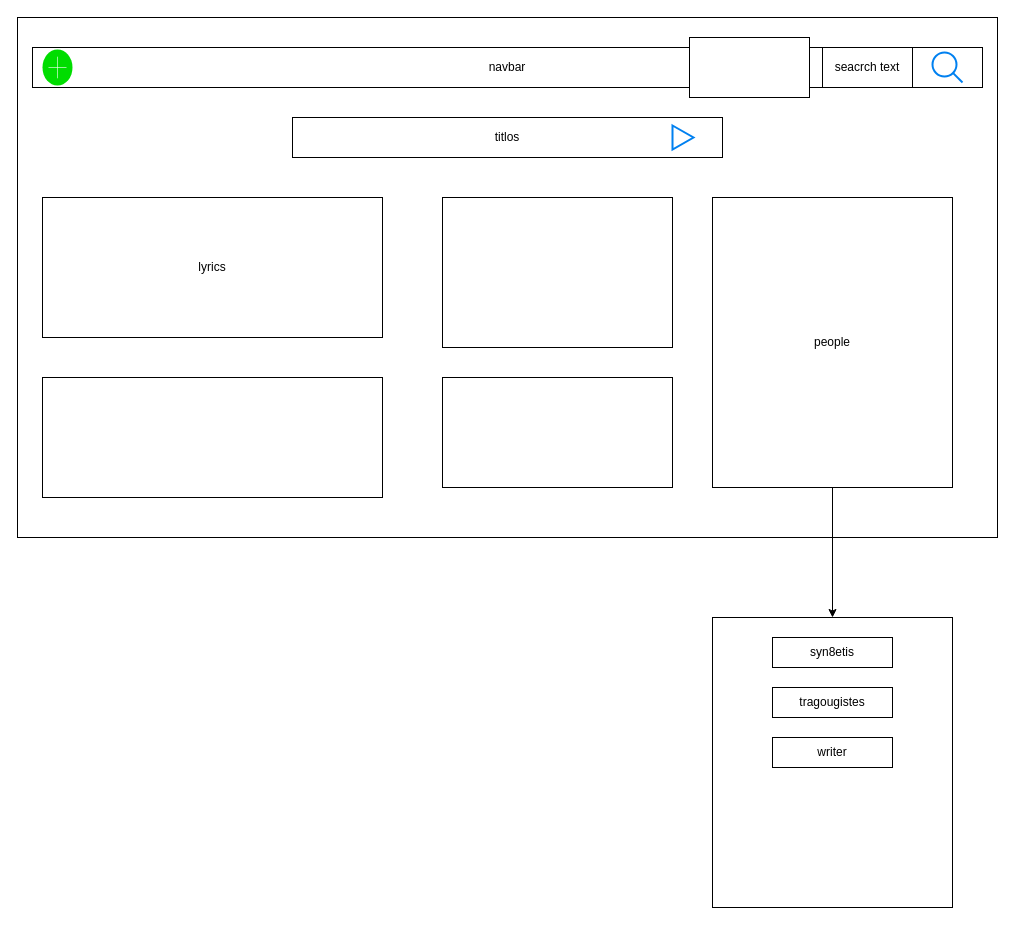
Some shapes in this 1015 by 925 pixel diagram are drawn without their labels. The shapes that lost their labels are listed below. From the top down, each one's centre as x and y in pixels, then its label:
pixel 749 67: drop down search
pixel 557 272: photo
pixel 212 437: notes
pixel 557 432: diskos
